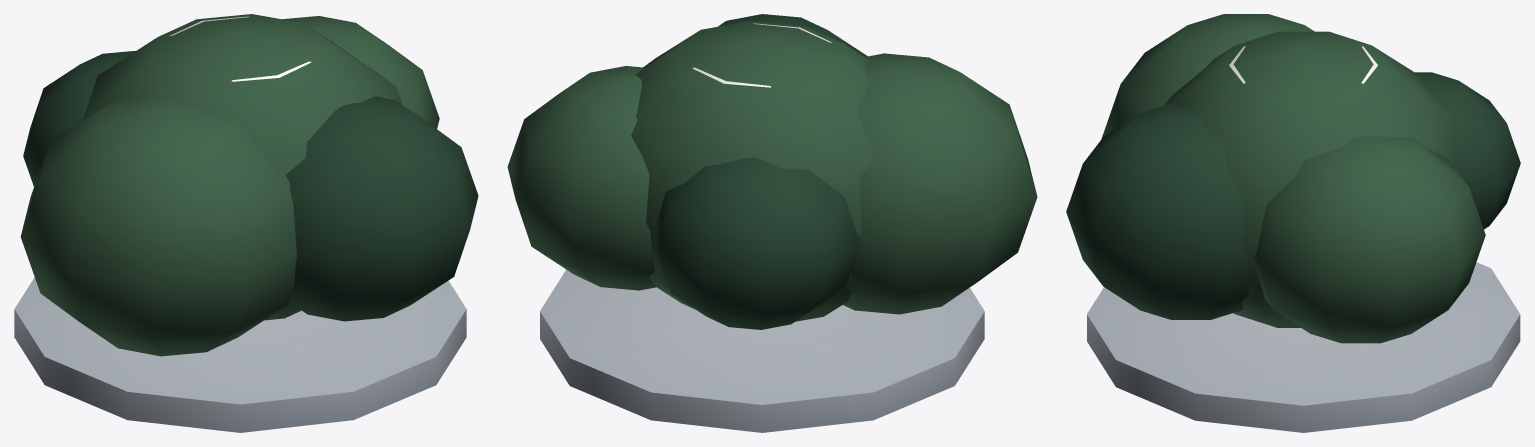
Rendered from ck_bush.fbx.
3 views of the same model, side by side, from view 1: azimuth 30°, elevation 25°; view 2: azimuth 150°, elevation 25°; view 3: azimuth 270°, elevation 25° (orthographic). The views are drawn at different scales.
Visible parts, largest first — view 1: ck_bush; view 2: ck_bush; view 3: ck_bush.
Boxes of the visible parts, x1,y1,x2,y2 form: ck_bush: (14,14,478,432); ck_bush: (507,14,1037,432); ck_bush: (1066,14,1520,432).
Bounding box in the file's own units: 390 × 272 × 368.
